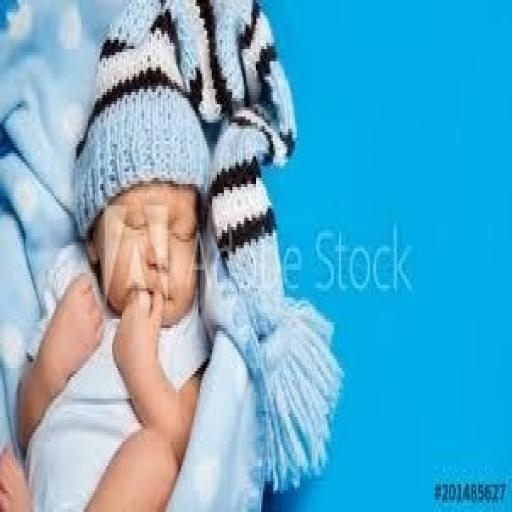sleeping: (0, 0, 344, 509)
